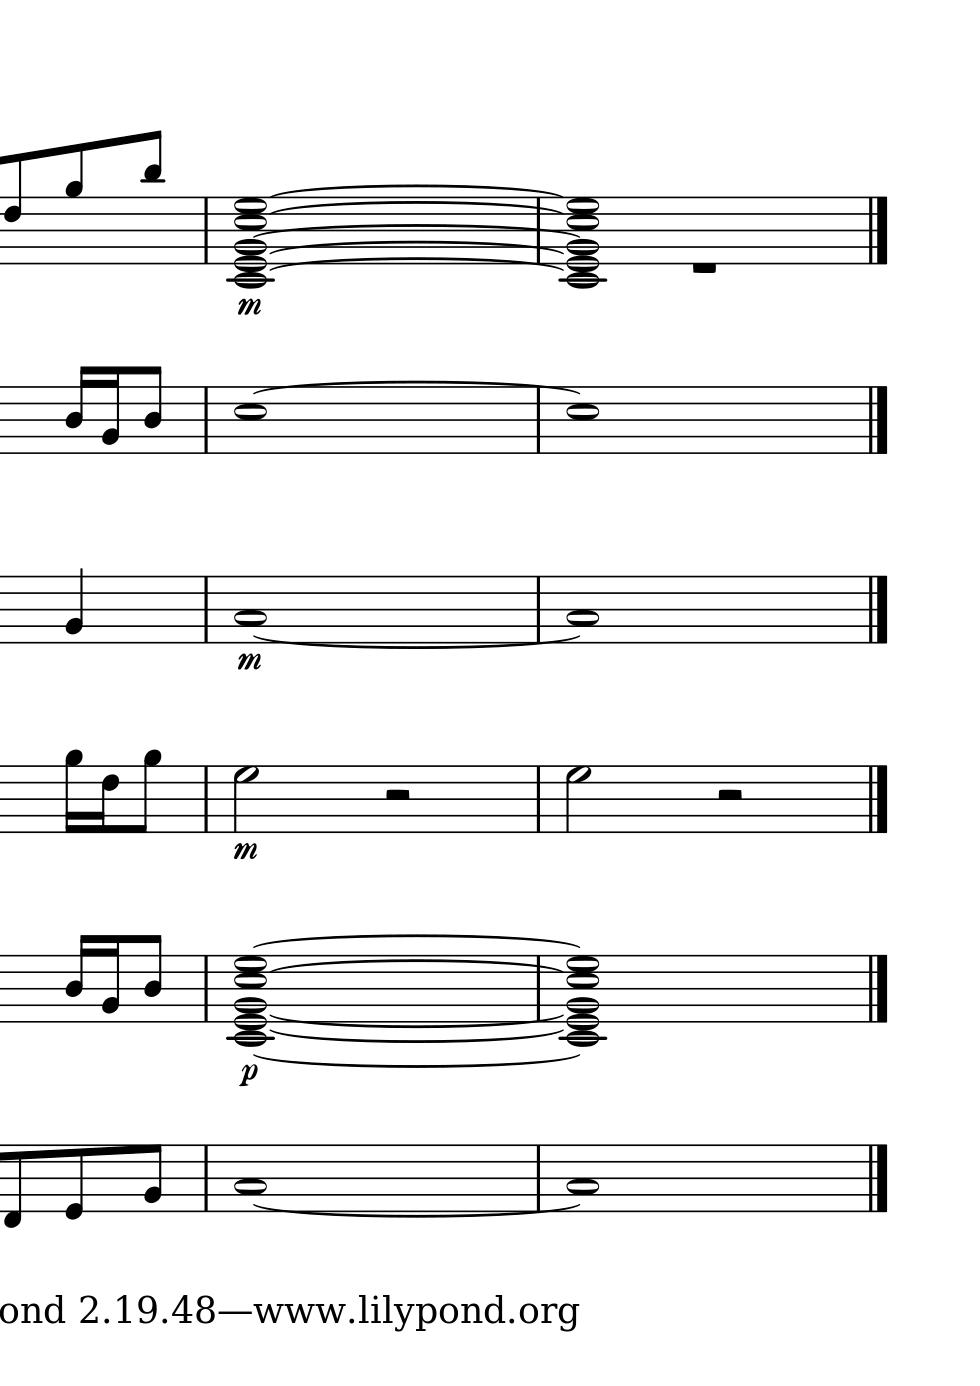16_2: (99, 933, 122, 1025), (100, 364, 121, 455)
16_4: (63, 932, 91, 1025), (63, 363, 91, 455)
16_6: (92, 764, 120, 836)
16_9: (63, 748, 83, 836)
1_3: (233, 1141, 266, 1215), (566, 573, 599, 646), (566, 1141, 599, 1213), (234, 572, 265, 645)
1_5: (566, 385, 600, 456), (234, 385, 267, 457)
1_5th: (558, 955, 608, 1049), (227, 955, 274, 1048), (230, 192, 272, 291), (561, 195, 603, 290)
2_7: (231, 764, 260, 836), (563, 764, 592, 836)
4_2: (64, 565, 86, 645)
8_-1: (2, 1142, 23, 1228)
8_0: (62, 1142, 86, 1222)
8_11: (141, 128, 165, 270)
8_2: (142, 1142, 164, 1215)
8_4: (143, 933, 164, 1024), (143, 364, 163, 456)
8_6: (1, 152, 23, 267)
8_9: (130, 748, 162, 836), (63, 141, 84, 266)
Final_barline: (862, 195, 891, 265), (862, 764, 891, 834), (862, 953, 891, 1023), (862, 386, 891, 454), (863, 574, 891, 644), (863, 1144, 890, 1212)
Rests1: (688, 257, 720, 279)
Rests2: (712, 786, 747, 807), (380, 786, 414, 805)
Single_barline: (197, 386, 215, 454), (197, 1144, 215, 1211), (529, 1144, 547, 1211), (198, 954, 215, 1024), (197, 197, 214, 266), (197, 576, 214, 644), (530, 955, 547, 1023), (529, 577, 547, 641), (198, 766, 214, 834), (531, 766, 547, 834), (530, 389, 546, 453), (531, 197, 546, 263)
Slur: (249, 378, 580, 396), (246, 932, 582, 949), (249, 634, 587, 650), (251, 1055, 581, 1071), (250, 1204, 580, 1220), (252, 223, 578, 239), (267, 255, 566, 271), (268, 1012, 563, 1029), (267, 1029, 566, 1043), (272, 182, 562, 196), (269, 960, 558, 973), (265, 201, 563, 213), (268, 242, 564, 253)
m: (234, 651, 263, 673), (237, 295, 262, 317)
mp: (230, 839, 260, 862)
p: (237, 1062, 258, 1089)
